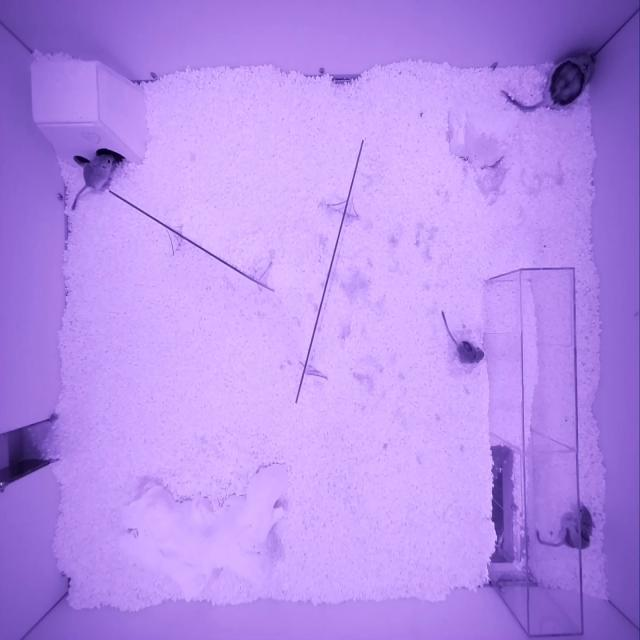adult_back: (542, 50, 596, 111)
pup_fluffy: (83, 153, 114, 192)
pup_h_stripe: (558, 503, 596, 549)
pup_spotted: (457, 339, 485, 365)
